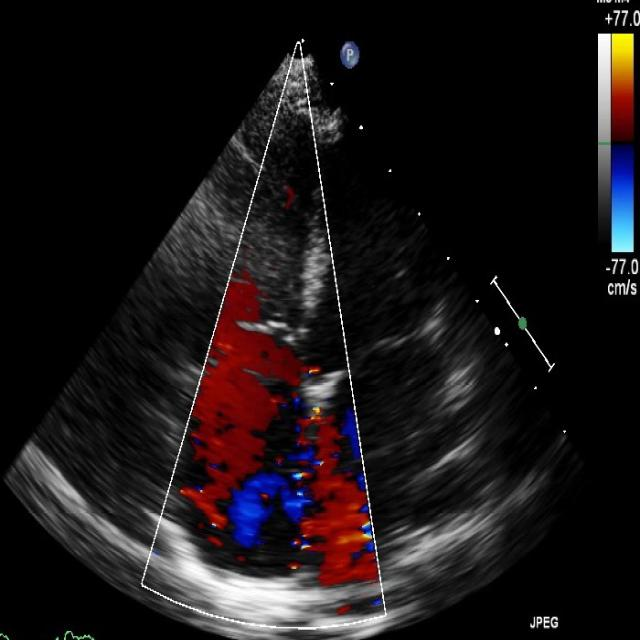ASDType2: (278, 376, 379, 588)
